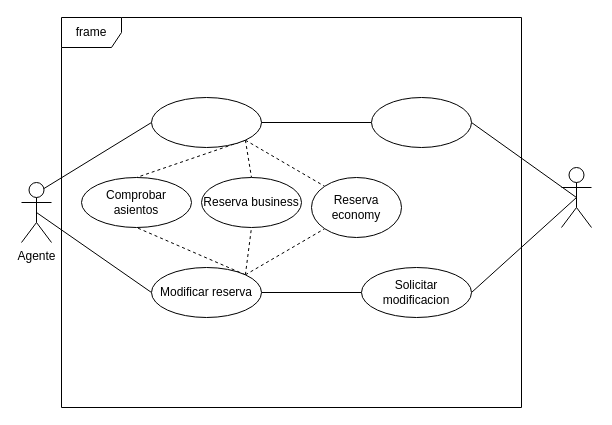
Some shapes in this 612 by 425 pixel diagram are drawn without their labels. The shapes that lost their labels are listed below. From the top down, each one's centre as x and y in pixels, then its label:
At pixel 206 122: "Realizar reserva".
At pixel 421 122: "Solicitud reserva".
At pixel 576 197: "Cliente".
